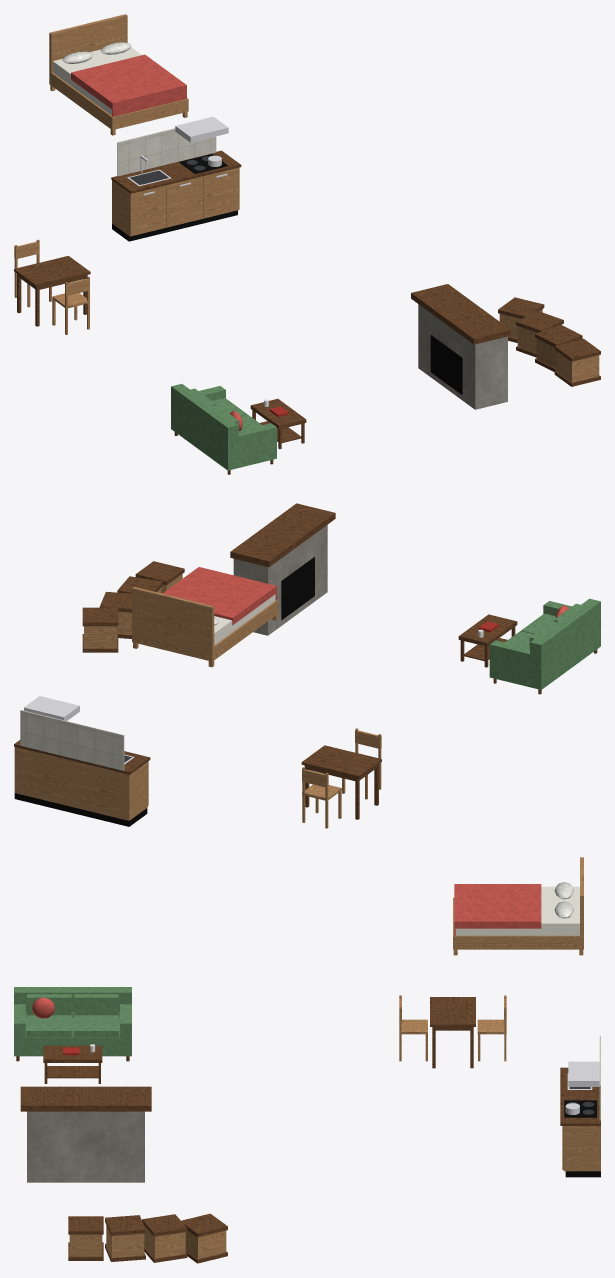
Rendered from i_a_frame_cabin.gltf.
3 renders of one model, top to bottom at view 1: azimuth 30°, elevation 25°; view 2: azimuth 150°, elevation 25°; view 3: azimuth 270°, elevation 25°, orthographic. The views are drawn at different scales.
Parts seen in each view (by area): view 1: I_a_frame_cabin; view 2: I_a_frame_cabin; view 3: I_a_frame_cabin.
Boxes of the visible parts, box(x1,y1,x2,y2) form: I_a_frame_cabin: box(14, 14, 600, 474); I_a_frame_cabin: box(14, 503, 600, 828); I_a_frame_cabin: box(14, 857, 600, 1263).
Size of the model in its own units: 7.42 by 4.2 by 8.96.
Materials: 14 (7 with a texture image).
